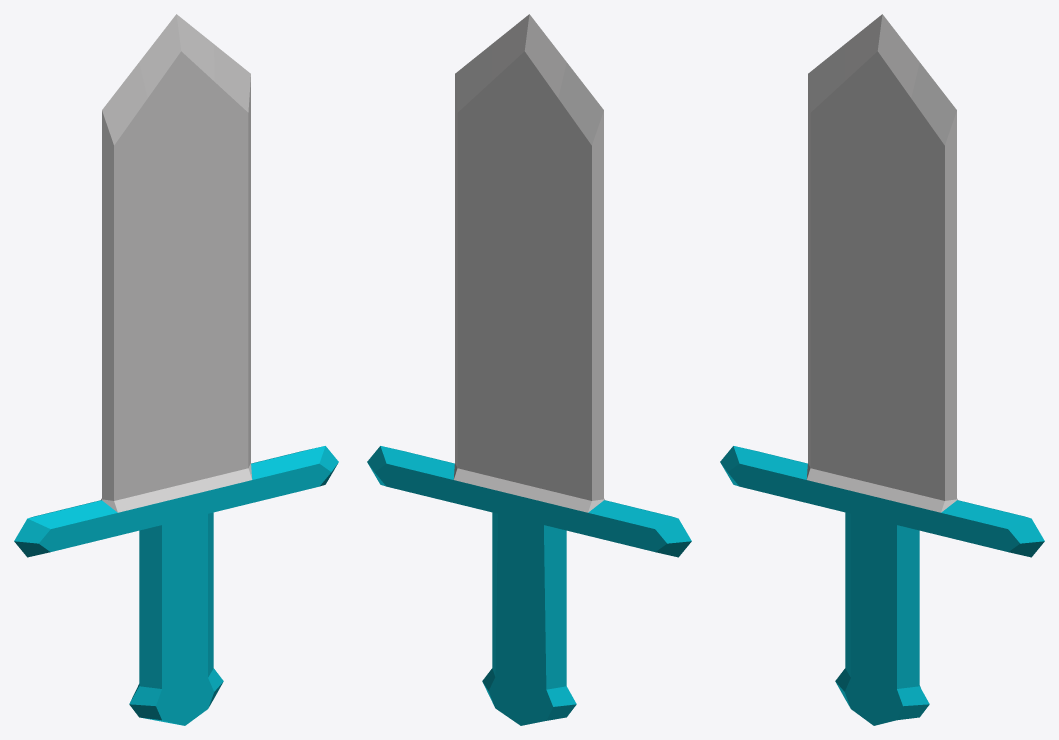
The model's file is SwordDestroyer.glb.
The picture shows the model from 3 angles, left to right: view 1: azimuth 30°, elevation 25°; view 2: azimuth 150°, elevation 25°; view 3: azimuth 330°, elevation 25°; orthographic projection.
Parts seen in each view (by area): view 1: SwordDestroyer; view 2: SwordDestroyer; view 3: SwordDestroyer.
Part boxes in pixels (box(x1,y1,x2,y2)): SwordDestroyer: box(14, 14, 338, 725); SwordDestroyer: box(367, 14, 691, 725); SwordDestroyer: box(720, 14, 1044, 725).
Size of the model in its own units: 4.36 by 9.04 by 0.4.
